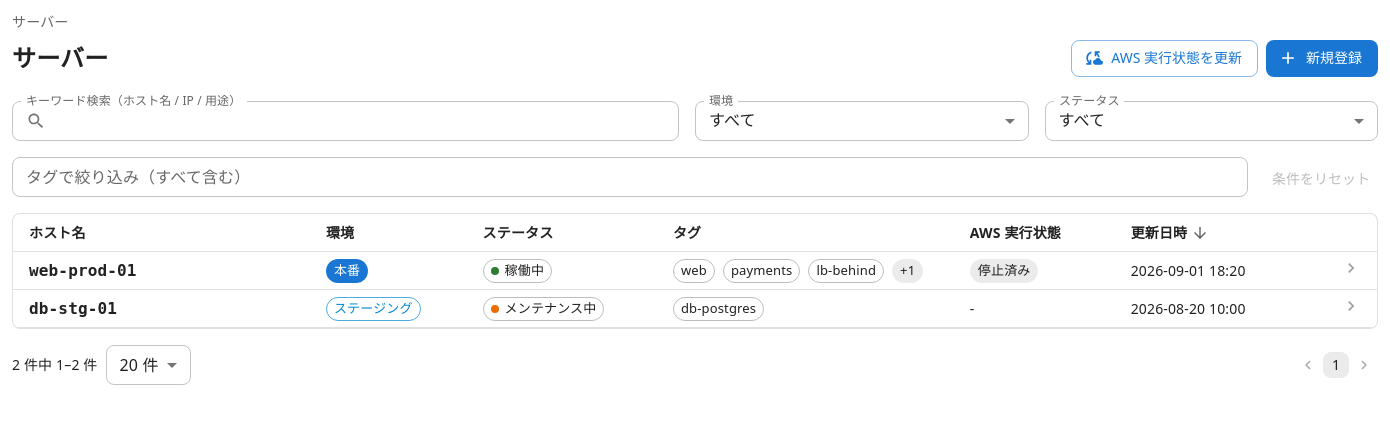
ServerListPage › キーワード入力（デバウンス後）で URL に q= が付く
The width and height of the screenshot is (1390, 426).
Expected: the text "web-prod-01" is shown, [29,261,137,280]
Type "db" into the field labelled "キーワード検索（ホスト名 / IP / 用途）" at (366, 120), box [54,100,679,140]
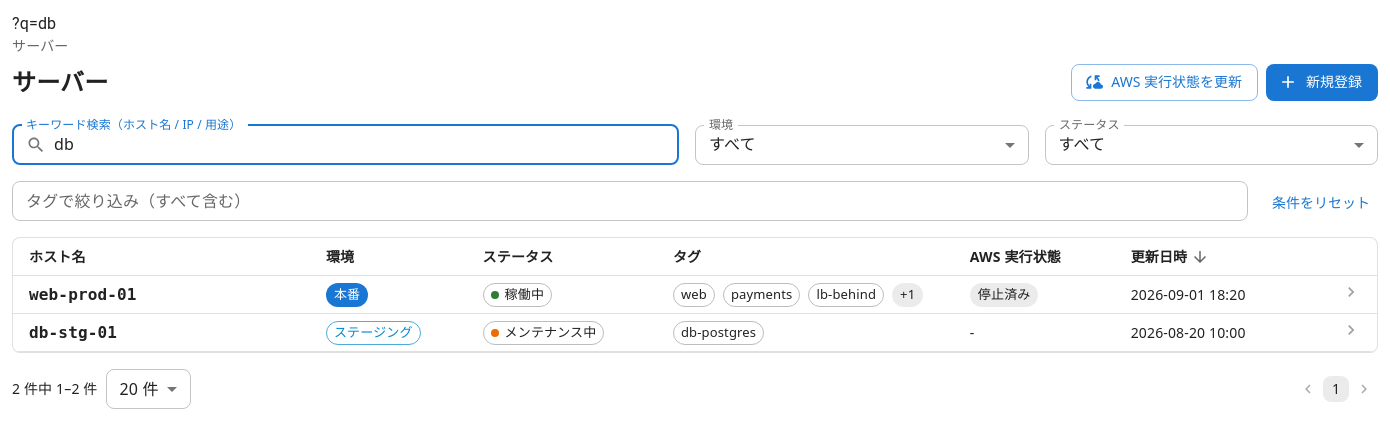
Result: the text with test id "location-search" shows "q=db" at [12,14,56,33]
